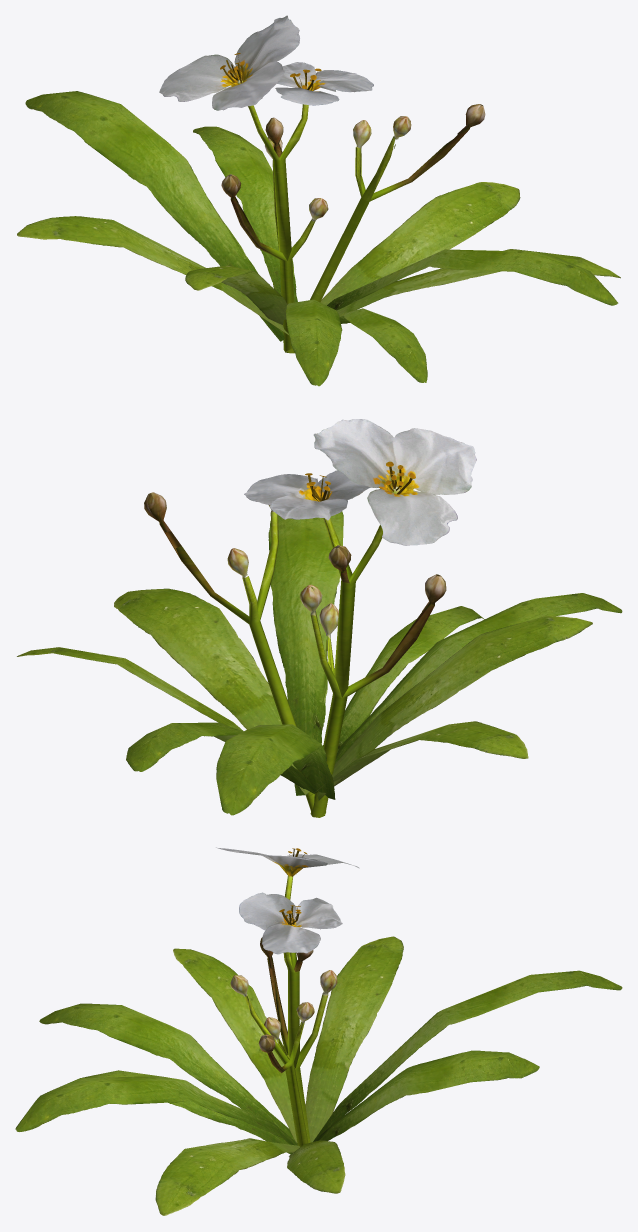
The model's file is Urikawa_LOD1.fbx.
3 renders of one model, top to bottom at view 1: azimuth 30°, elevation 25°; view 2: azimuth 150°, elevation 25°; view 3: azimuth 270°, elevation 25°, orthographic. The views are drawn at different scales.
Visible parts, largest first — view 1: polySurface880__urikawa_m; view 2: polySurface880__urikawa_m; view 3: polySurface880__urikawa_m.
Boxes of the visible parts, x1,y1,x2,y2 form: polySurface880__urikawa_m: (17,15,620,386); polySurface880__urikawa_m: (17,419,622,817); polySurface880__urikawa_m: (15,847,622,1215).
Bounding box in the file's own units: 15350 × 10169 × 18182.
